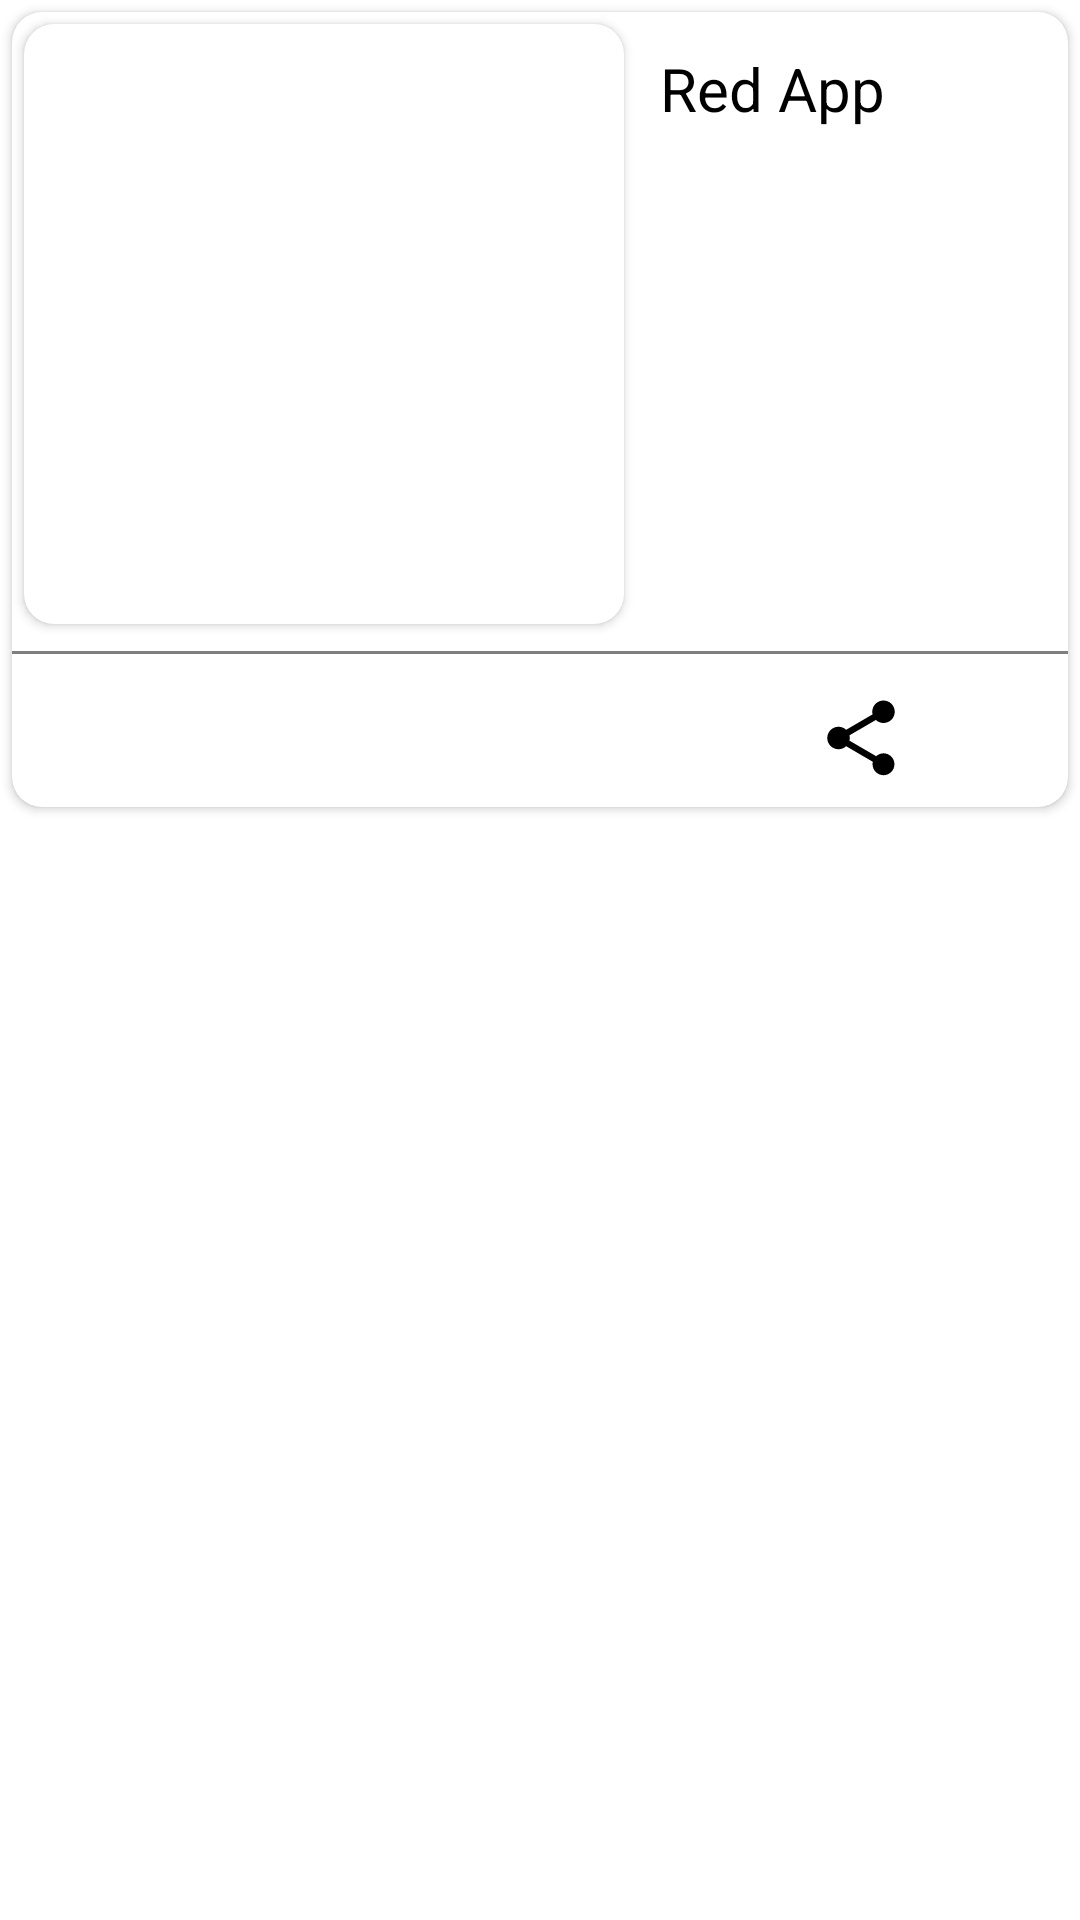

Icon bounding boxes for this 1080 × 1920 phone screenshot, format [left=x1, top=y1, right=x2, bottom=y2]:
share: [left=827, top=700, right=895, bottom=776]
